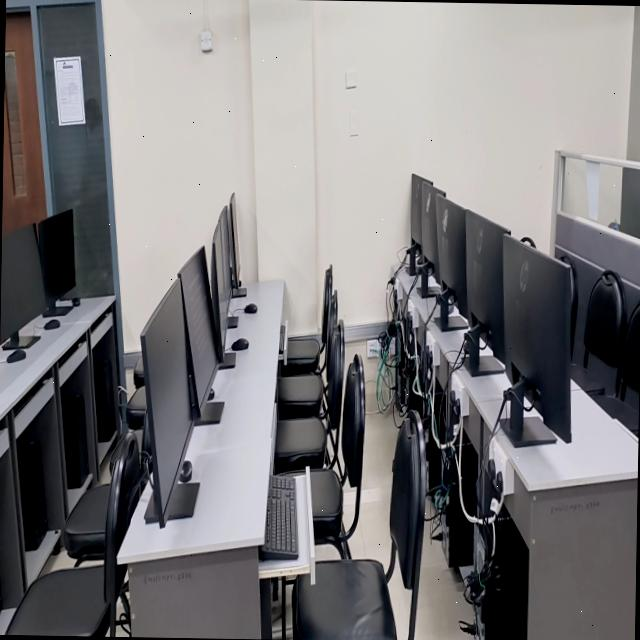Chair: (292, 411, 426, 640), (5, 433, 147, 636), (310, 354, 365, 558), (274, 321, 344, 473), (571, 269, 627, 396), (593, 298, 640, 439), (62, 484, 109, 560), (277, 374, 325, 418), (287, 325, 321, 372), (126, 387, 146, 429), (321, 282, 326, 313)
Cpu: (467, 509, 528, 640), (17, 440, 47, 550), (61, 395, 88, 488), (446, 484, 472, 569), (93, 354, 114, 441), (461, 433, 478, 501)
Keyboard: (259, 474, 297, 560)
Monitor: (502, 236, 571, 441), (141, 275, 193, 527), (178, 246, 222, 424), (466, 210, 509, 360), (0, 225, 45, 341), (434, 193, 467, 316), (35, 209, 75, 308), (210, 206, 233, 355), (421, 180, 445, 267), (226, 193, 241, 289), (410, 173, 426, 245), (231, 291, 245, 297)
Mouse: (178, 460, 192, 483), (5, 348, 26, 363), (231, 337, 248, 351), (43, 319, 60, 329), (244, 302, 257, 313), (70, 296, 80, 307)
